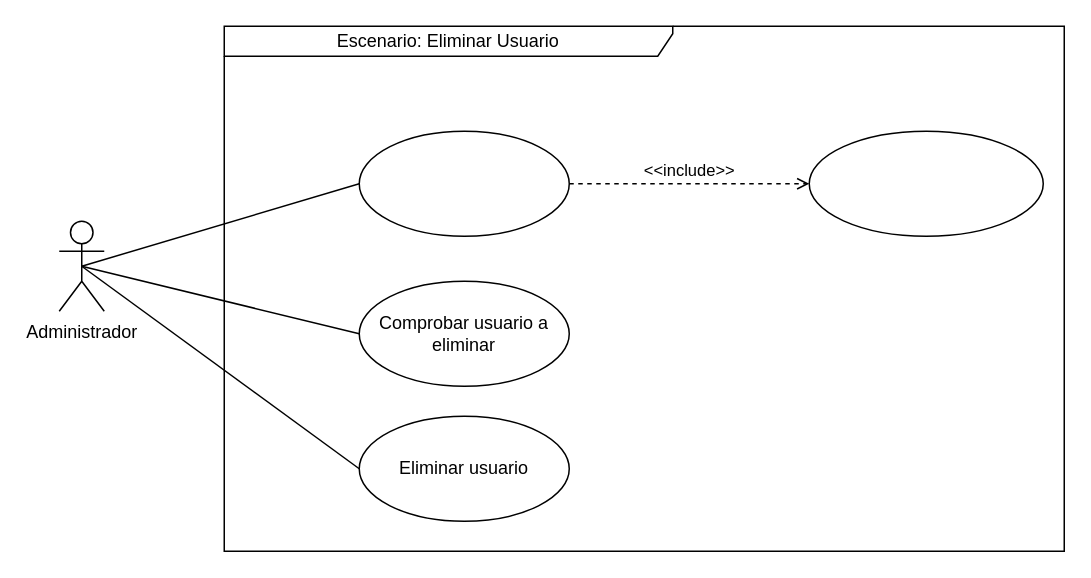
Image size: 1091x578. Some labels were removed from this diagram. Each missing label, with the centre of its shape:
"Campo Obligatorio" goes at point 925,183.
"Seleccionar usuario a eliminar" goes at point 463,183.
